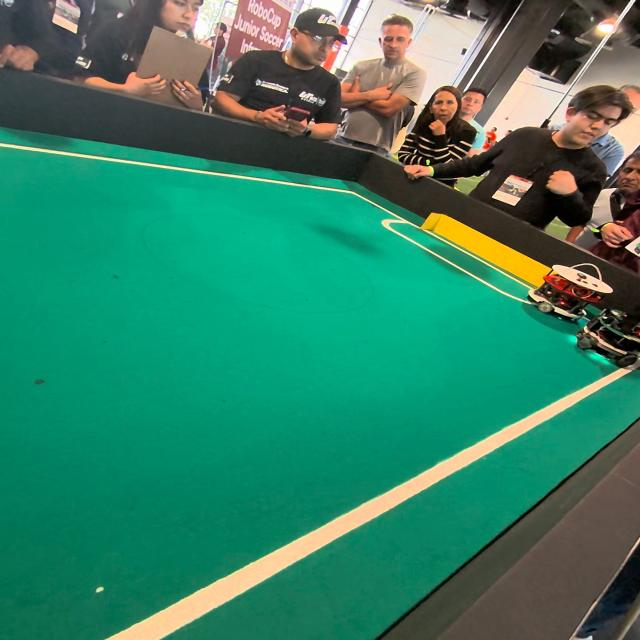Robot: (525, 262, 604, 326), (577, 304, 640, 376)
